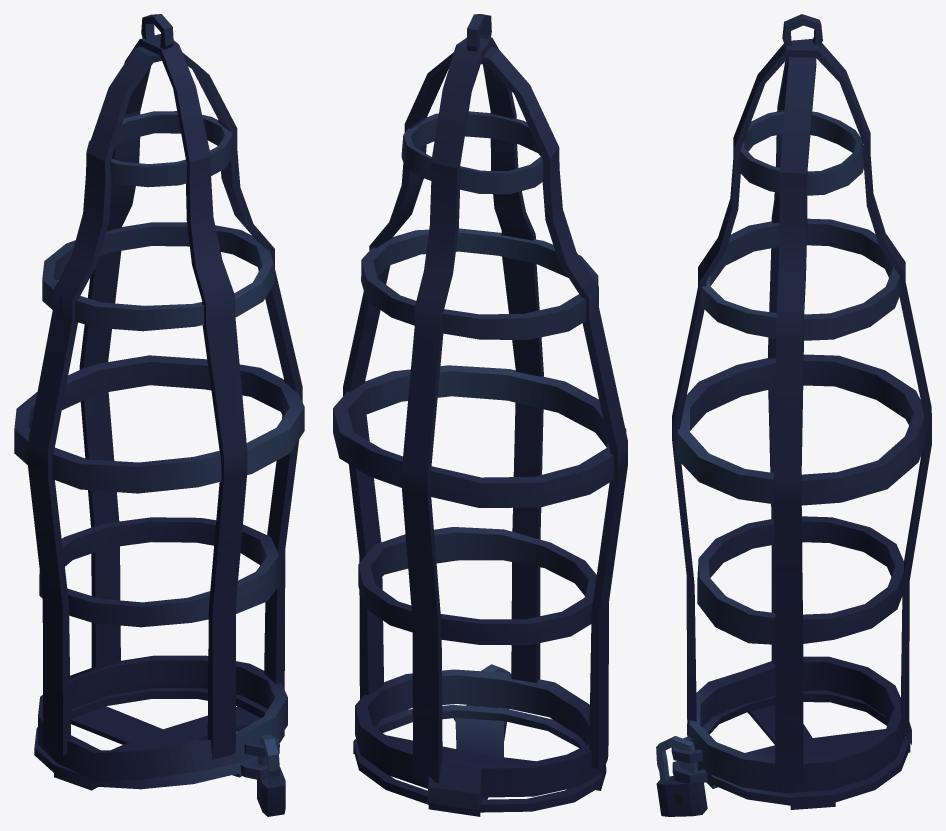
File: Gibbet_Cage1.fbx
3 renders of one model, left to right at view 1: azimuth 30°, elevation 25°; view 2: azimuth 150°, elevation 25°; view 3: azimuth 270°, elevation 25°, orthographic. The views are drawn at different scales.
Visible parts, largest first — view 1: Gibbet_Cage1; view 2: Gibbet_Cage1; view 3: Gibbet_Cage1.
Boxes of the visible parts, bbox=[...] form: Gibbet_Cage1: bbox=[14, 14, 304, 816]; Gibbet_Cage1: bbox=[333, 14, 627, 816]; Gibbet_Cage1: bbox=[656, 14, 931, 816].
Size of the model in its own units: 2.83 by 7.8 by 2.52.
